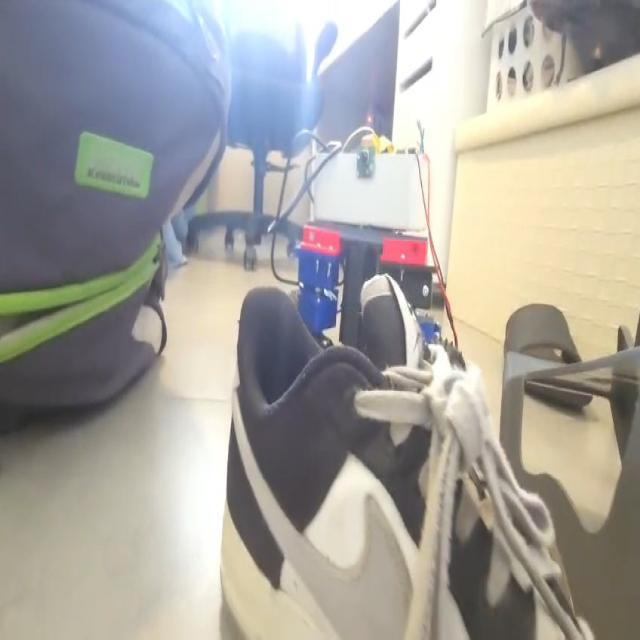Robot: (294, 130, 466, 374)
